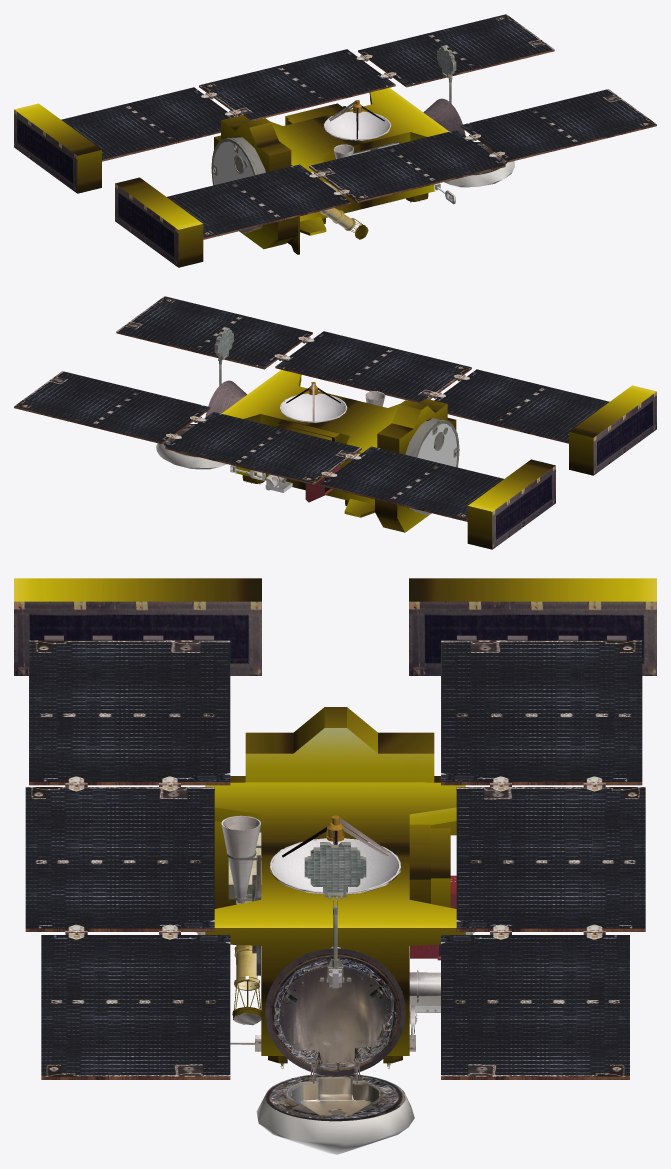
File: stardust_lod1.glb
3 views of the same model, one above another, from view 1: azimuth 30°, elevation 25°; view 2: azimuth 150°, elevation 25°; view 3: azimuth 270°, elevation 25° (orthographic). The views are drawn at different scales.
Parts seen in each view (by area): view 1: stardust_lod1; view 2: stardust_lod1; view 3: stardust_lod1.
Boxes of the visible parts, left/top/right/bottom form: stardust_lod1: left=14, top=14, right=656, bottom=267; stardust_lod1: left=14, top=296, right=656, bottom=549; stardust_lod1: left=14, top=578, right=656, bottom=1154.
Bounding box in the file's own units: 5.1 × 1.47 × 2.99.
7 materials, 6 textured.
